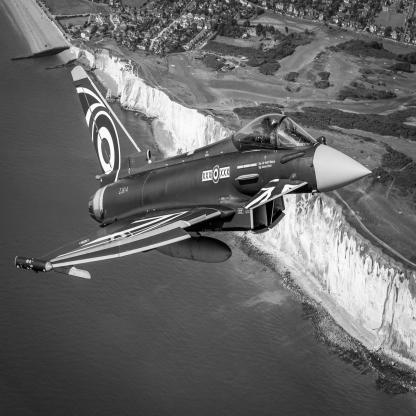EF2000: (16, 67, 374, 281)
